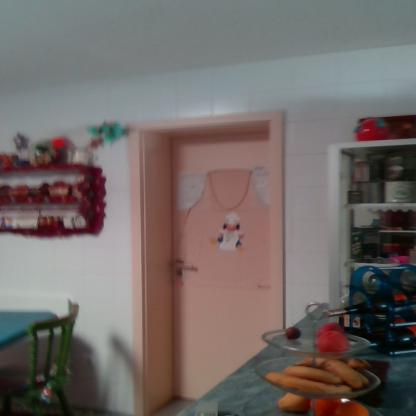door: (169, 139, 270, 401)
lever: (173, 262, 201, 272)
